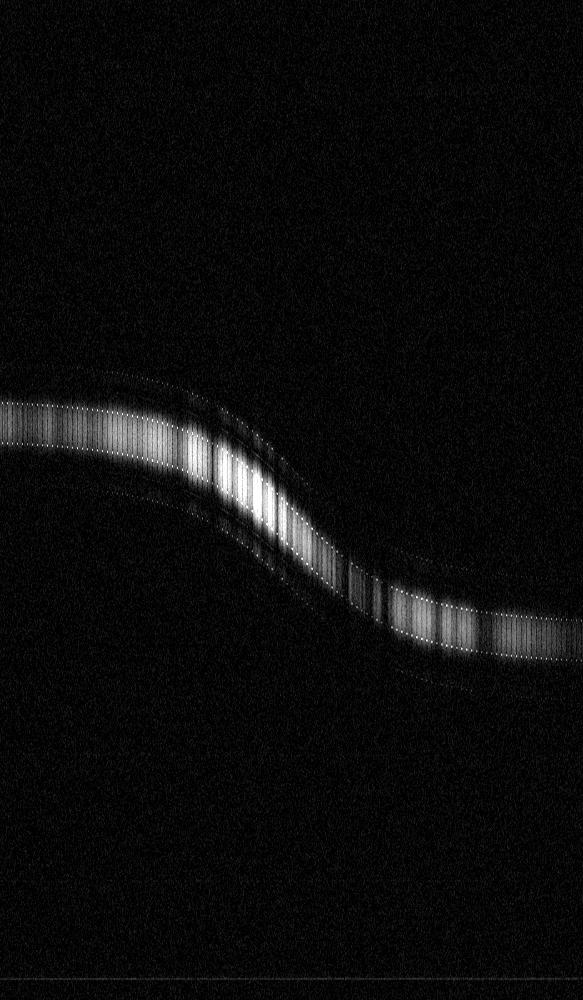signal: (0, 0, 582, 999)
